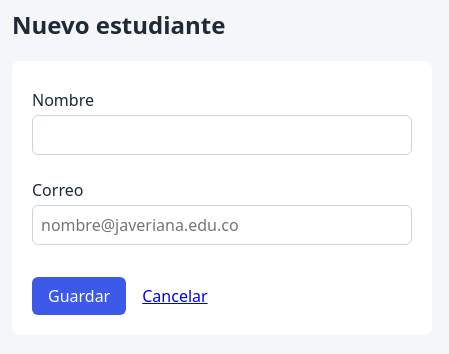
UsuarioFormComponent › rechaza un correo con formato inválido
The image size is (449, 354).
Type "Ana" into the field named "nombre" at (222, 135), box [32,115,412,155]
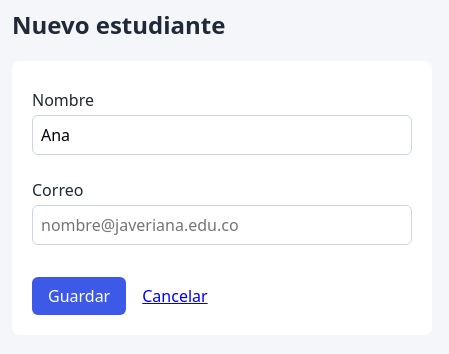
Type "no-es-correo" into the field named "correo" at (222, 225), box [32,205,412,245]
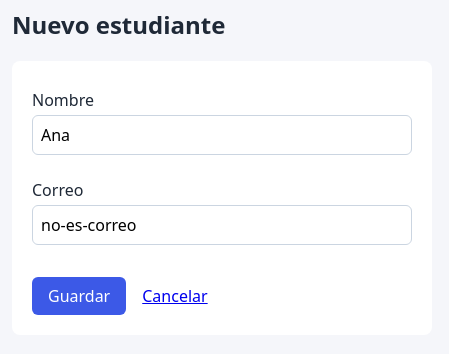
Submit the form
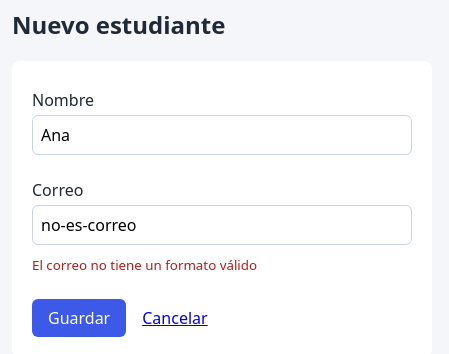
Expected: the text "El correo no tiene un formato válido" is shown, [32,256,257,274]
